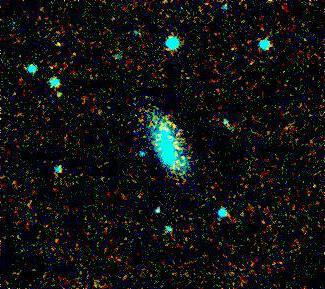star: (164, 109, 194, 139)
